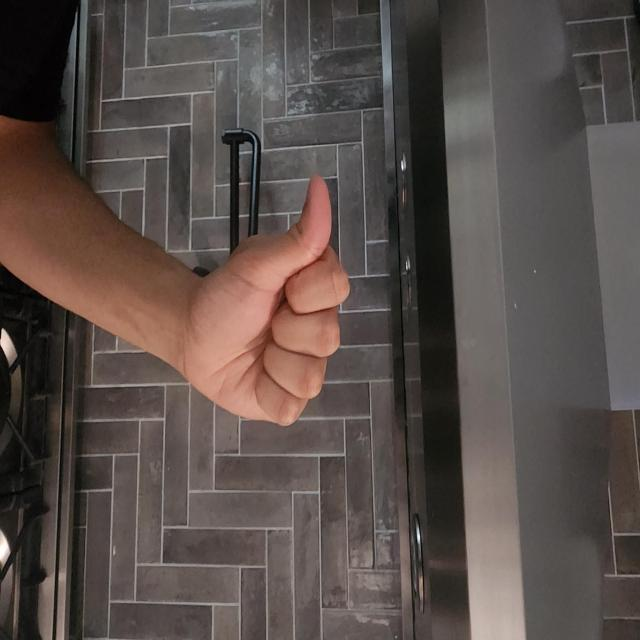A: (286, 384, 484, 614)
